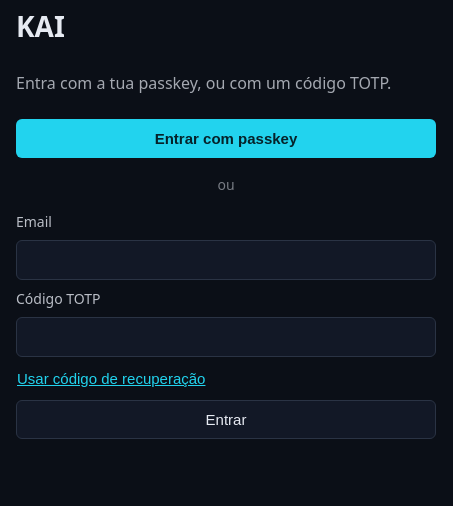
Test case: LoginPage › um erro inesperado nunca mostra detalhes técnicos
Click the button "Entrar com passkey": [226, 138] box [16,119,436,158]
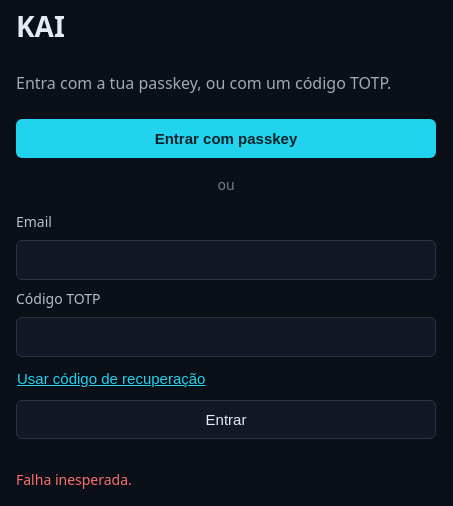
Check: the message reads "Falha inesperada.", box [16,470,132,489]
